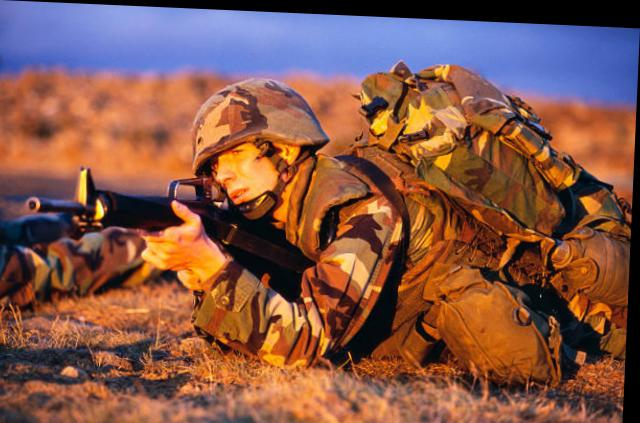other: (14, 62, 522, 356)
